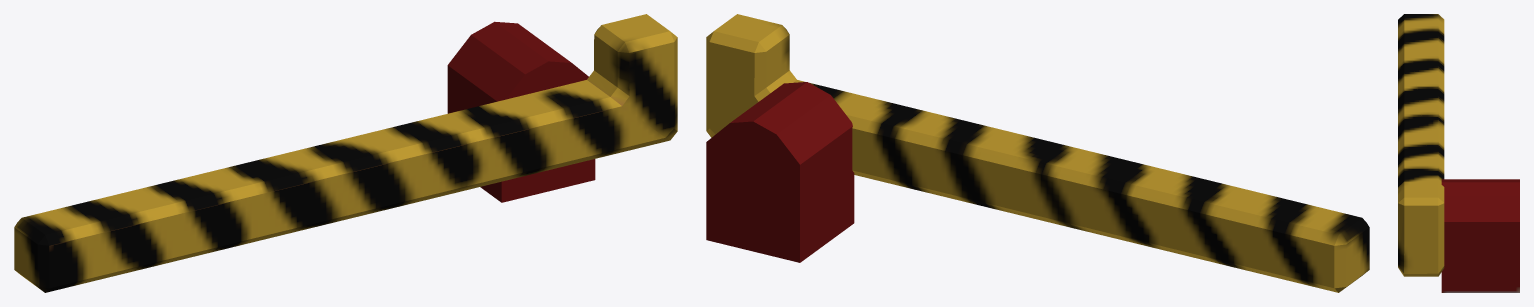
The model's file is SM_TrainStationBarrier.fbx.
3 views of the same model, side by side, from view 1: azimuth 30°, elevation 25°; view 2: azimuth 150°, elevation 25°; view 3: azimuth 270°, elevation 25° (orthographic). The views are drawn at different scales.
Visible parts, largest first — view 1: SM_TrainStationBarrier; view 2: SM_TrainStationBarrier; view 3: SM_TrainStationBarrier.
Boxes of the visible parts, x1,y1,x2,y2 form: SM_TrainStationBarrier: (14,14,677,292); SM_TrainStationBarrier: (706,14,1369,292); SM_TrainStationBarrier: (1398,14,1519,292).
Size of the model in its own units: 683 by 159 by 155.
